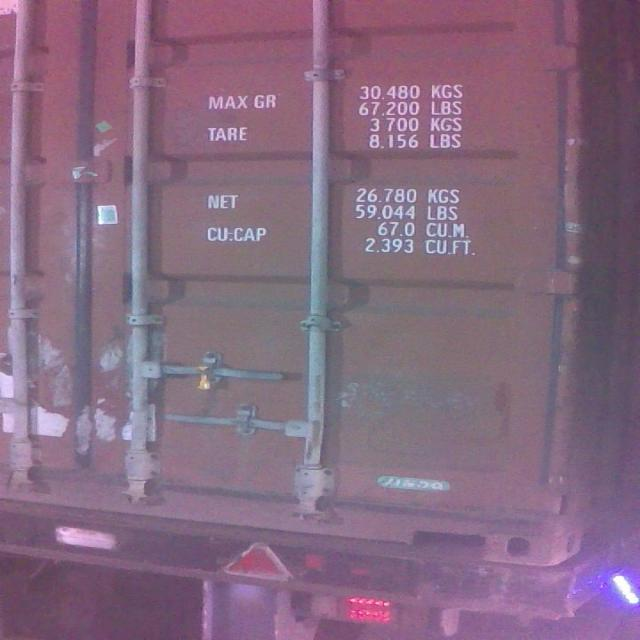seal: (194, 359, 221, 396)
